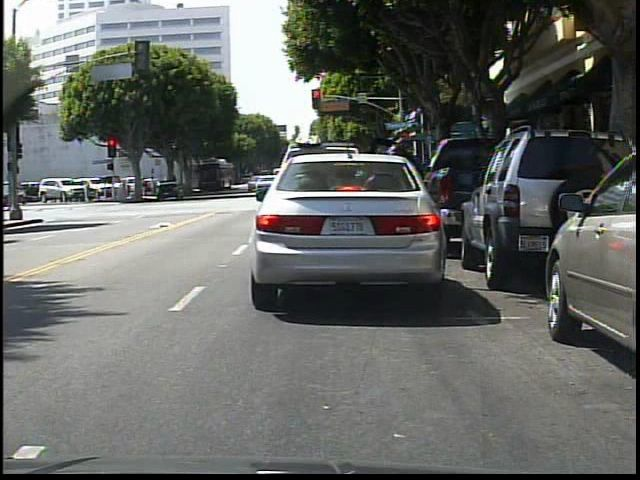person: (387, 141, 418, 244)
